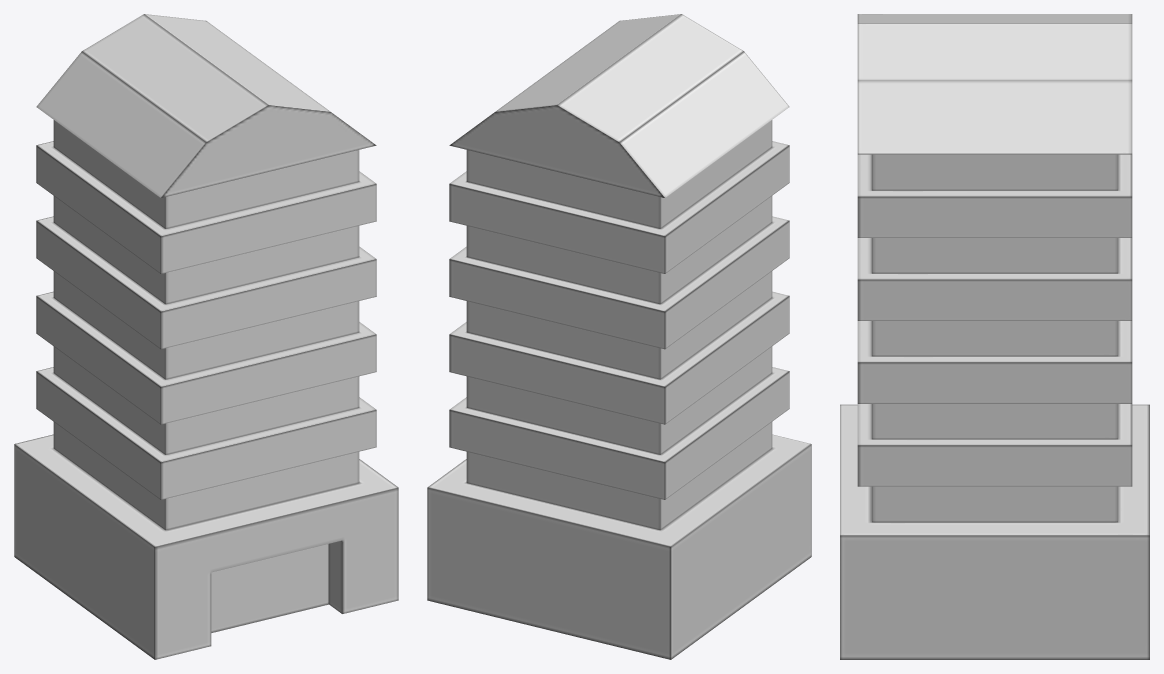
Rendered from Building-04.fbx.
3 renders of one model, left to right at view 1: azimuth 30°, elevation 25°; view 2: azimuth 150°, elevation 25°; view 3: azimuth 270°, elevation 25°, orthographic. The views are drawn at different scales.
Visible parts, largest first — view 1: Building_04; view 2: Building_04; view 3: Building_04.
Boxes of the visible parts, left/top/right/bottom form: Building_04: left=14, top=14, right=398, bottom=659; Building_04: left=427, top=14, right=811, bottom=659; Building_04: left=840, top=14, right=1149, bottom=659.
Bounding box in the file's own units: 2.26 × 4.6 × 2.26.
